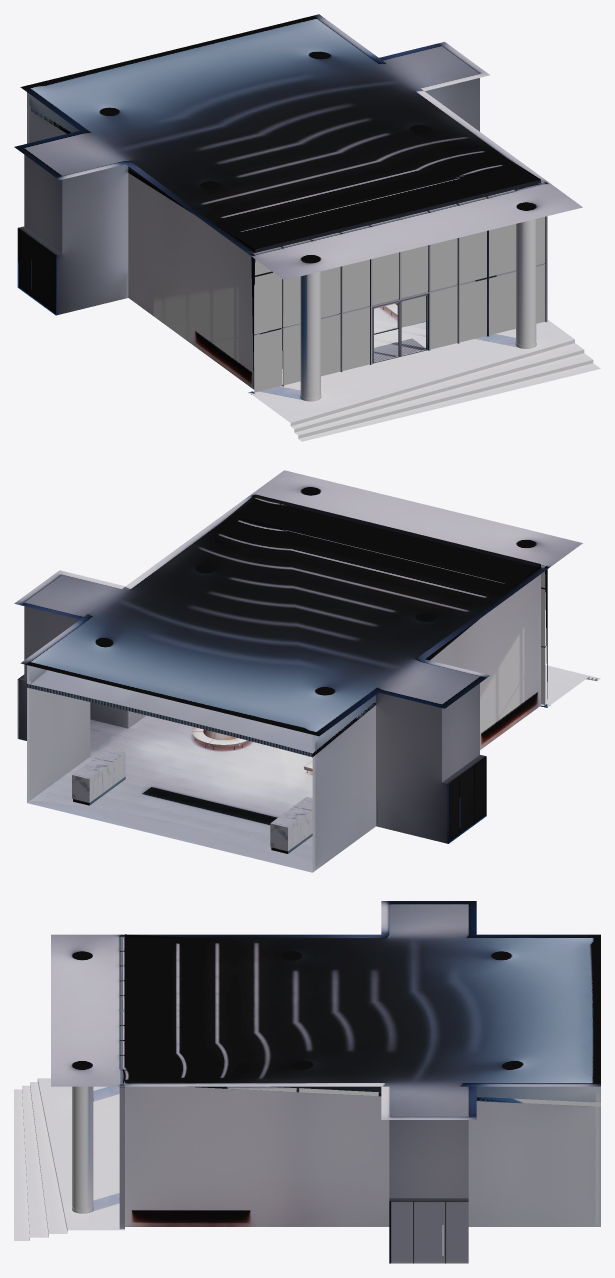
File: lobbyyy.fbx
The picture shows the model from 3 angles, top to bottom: view 1: azimuth 30°, elevation 25°; view 2: azimuth 150°, elevation 25°; view 3: azimuth 270°, elevation 25°; orthographic projection. The views are drawn at different scales.
Parts seen in each view (by area): view 1: floor, walls, glass, doors; view 2: floor, walls, doors, furniture.001, furniture.002, furniture, glass; view 3: floor, walls, doors.
Boxes of the visible parts, x1,y1,x2,y2 form: floor: [14, 14, 600, 441]; walls: [17, 78, 536, 401]; glass: [254, 217, 545, 392]; doors: [17, 183, 549, 394]; floor: [14, 470, 600, 872]; walls: [17, 574, 540, 872]; doors: [195, 565, 550, 842]; furniture.001: [72, 748, 125, 805]; furniture.002: [270, 797, 312, 853]; furniture: [192, 727, 460, 827]; glass: [541, 571, 545, 704]; floor: [14, 901, 600, 1240]; walls: [72, 1086, 600, 1263]; doors: [119, 936, 468, 1263].
Bounding box in the file's own units: 1960 × 660 × 2220.
